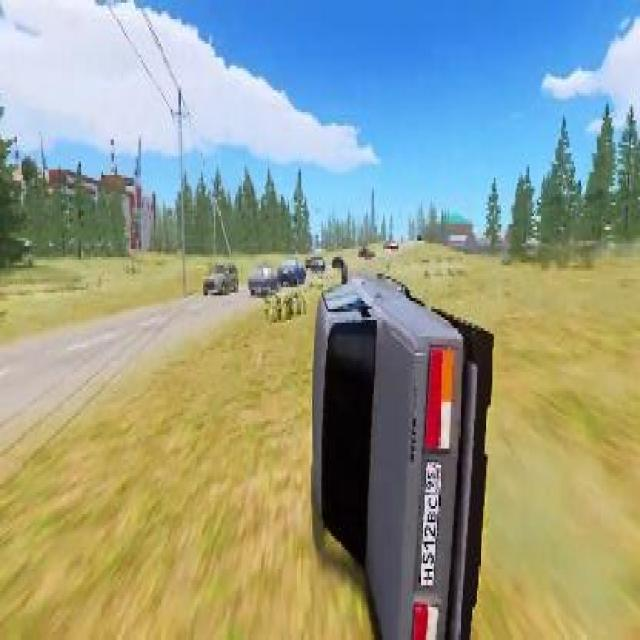accident: (304, 260, 498, 640)
